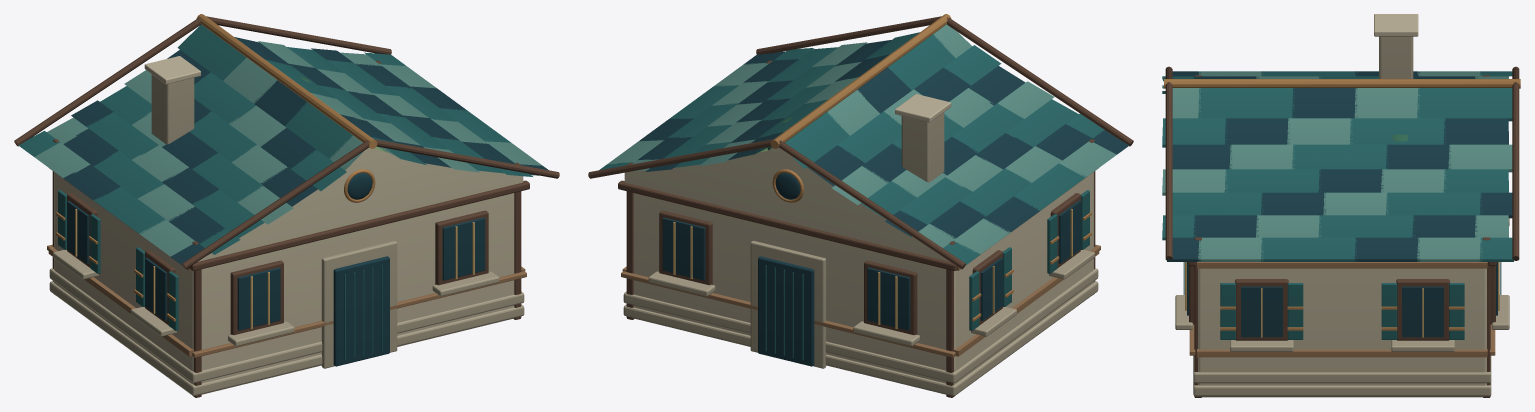
The model's file is dawnreef_kit.glb.
3 renders of one model, left to right at view 1: azimuth 30°, elevation 25°; view 2: azimuth 150°, elevation 25°; view 3: azimuth 270°, elevation 25°, orthographic. The views are drawn at different scales.
Parts seen in each view (by area): view 1: SailHouse; view 2: SailHouse; view 3: SailHouse.
Boxes of the visible parts, x1=… form: SailHouse: x1=14, y1=14, x2=559, y2=397; SailHouse: x1=588, y1=14, x2=1133, y2=397; SailHouse: x1=1162, y1=14, x2=1520, y2=397.
Bounding box in the file's own units: 9.18 × 5.65 × 7.34.
